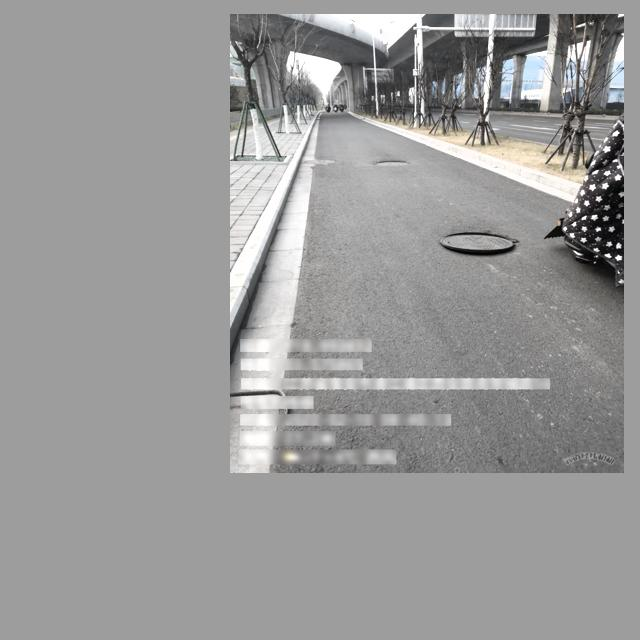uncovered: (432, 224, 523, 257)
